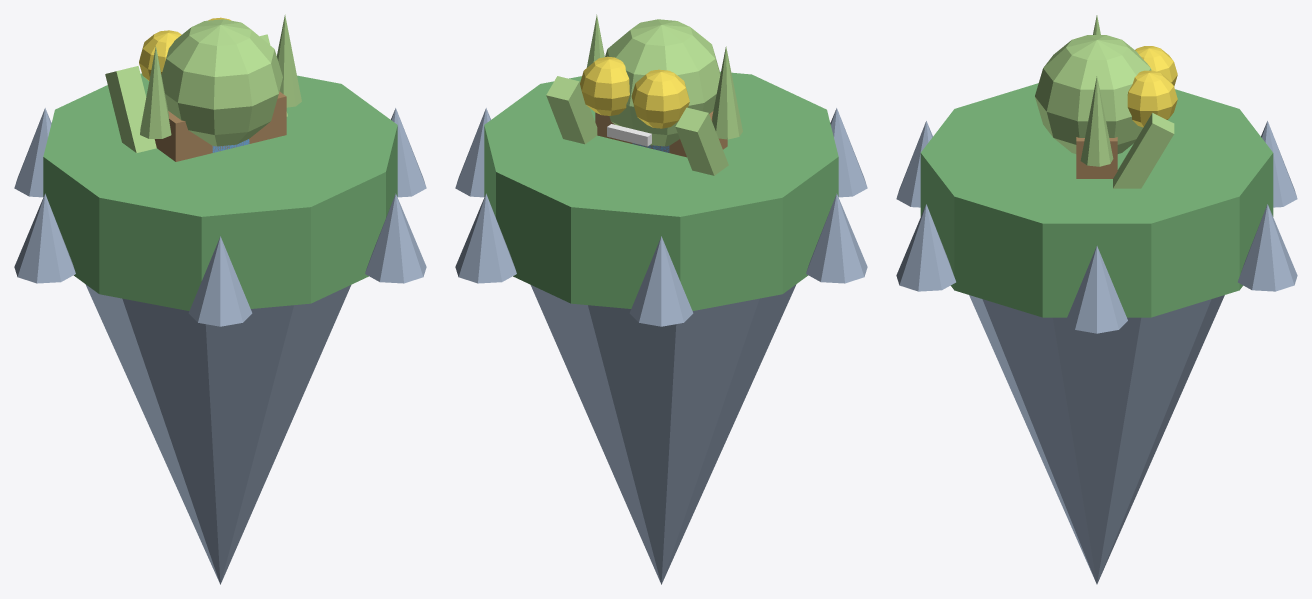
Rendered from goblin_drill.glb.
3 renders of one model, left to right at view 1: azimuth 30°, elevation 25°; view 2: azimuth 150°, elevation 25°; view 3: azimuth 270°, elevation 25°, orthographic. The views are drawn at different scales.
Parts seen in each view (by area): view 1: goblin_drill; view 2: goblin_drill; view 3: goblin_drill.
Boxes of the visible parts, left/top/right/bottom form: goblin_drill: left=14, top=14, right=426, bottom=584; goblin_drill: left=455, top=14, right=867, bottom=584; goblin_drill: left=896, top=15, right=1297, bottom=584.
Bounding box in the file's own units: 2.2 × 2.9 × 1.94.
